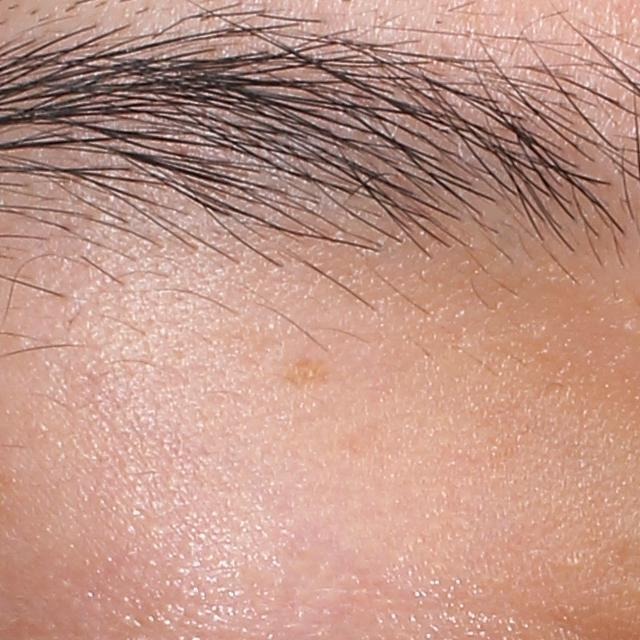melasma: (285, 352, 337, 388)
